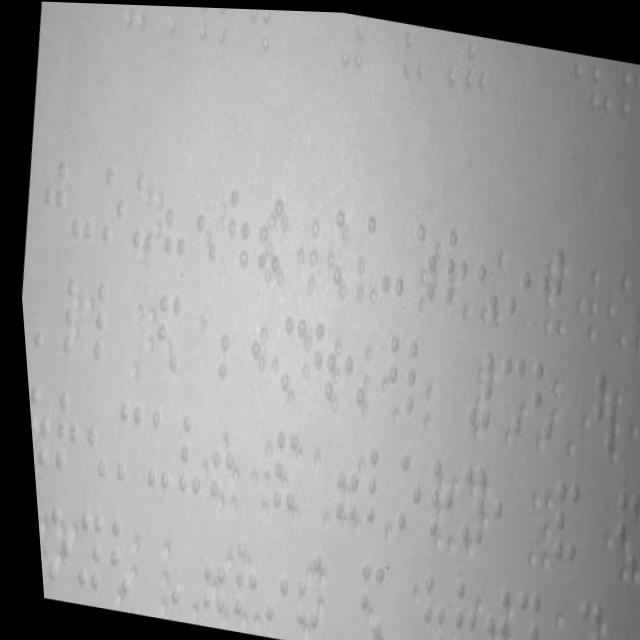braiile: (88, 153, 135, 254), (69, 383, 114, 488), (247, 532, 293, 634), (161, 406, 207, 507), (60, 148, 105, 249), (369, 200, 412, 301), (79, 273, 125, 367), (20, 262, 65, 358), (298, 307, 341, 406), (100, 394, 146, 486), (90, 505, 135, 599), (214, 180, 259, 274), (328, 311, 372, 407), (133, 402, 177, 496), (40, 383, 84, 477), (350, 439, 394, 532), (204, 290, 247, 385), (153, 167, 196, 262), (496, 228, 539, 322), (62, 502, 104, 597), (382, 443, 426, 533), (22, 371, 58, 481), (516, 348, 558, 442), (155, 518, 196, 611), (465, 221, 505, 316), (268, 302, 308, 395), (431, 563, 479, 640), (391, 330, 432, 418), (403, 560, 446, 640)
